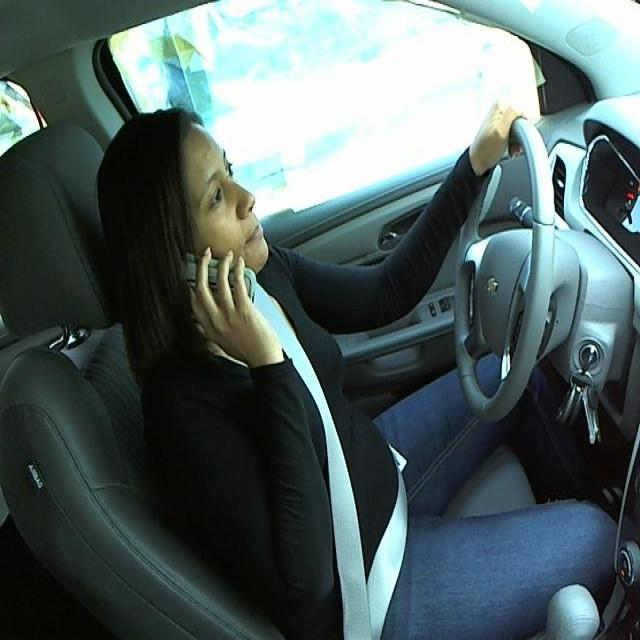using_phone: (78, 117, 302, 370)
